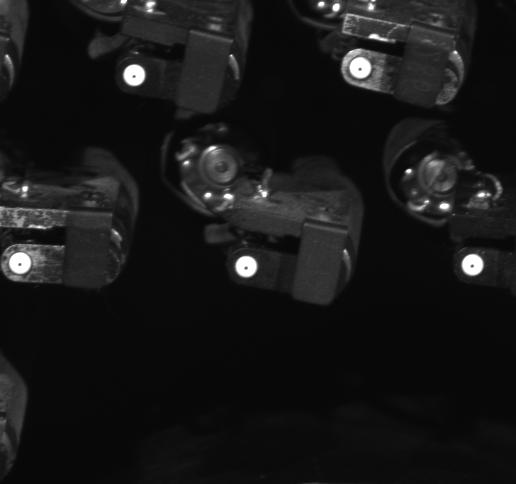fiber: (6, 248, 39, 280), (458, 249, 491, 281), (117, 59, 149, 90), (228, 250, 261, 280), (346, 54, 377, 84)
